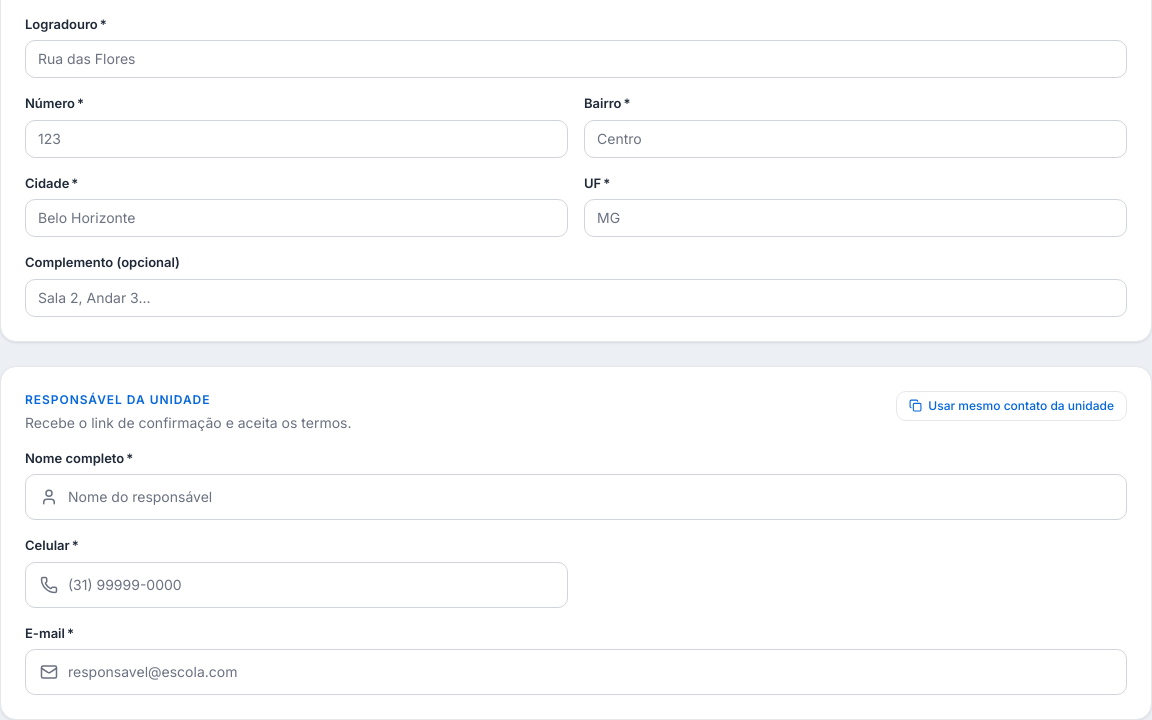
StepDados — duplicar contato da unidade › copia email e celular da unidade para o responsável
(page scrolled)
Click the button "Usar mesmo contato da unidade": (1012, 406) [896,390,1127,420]
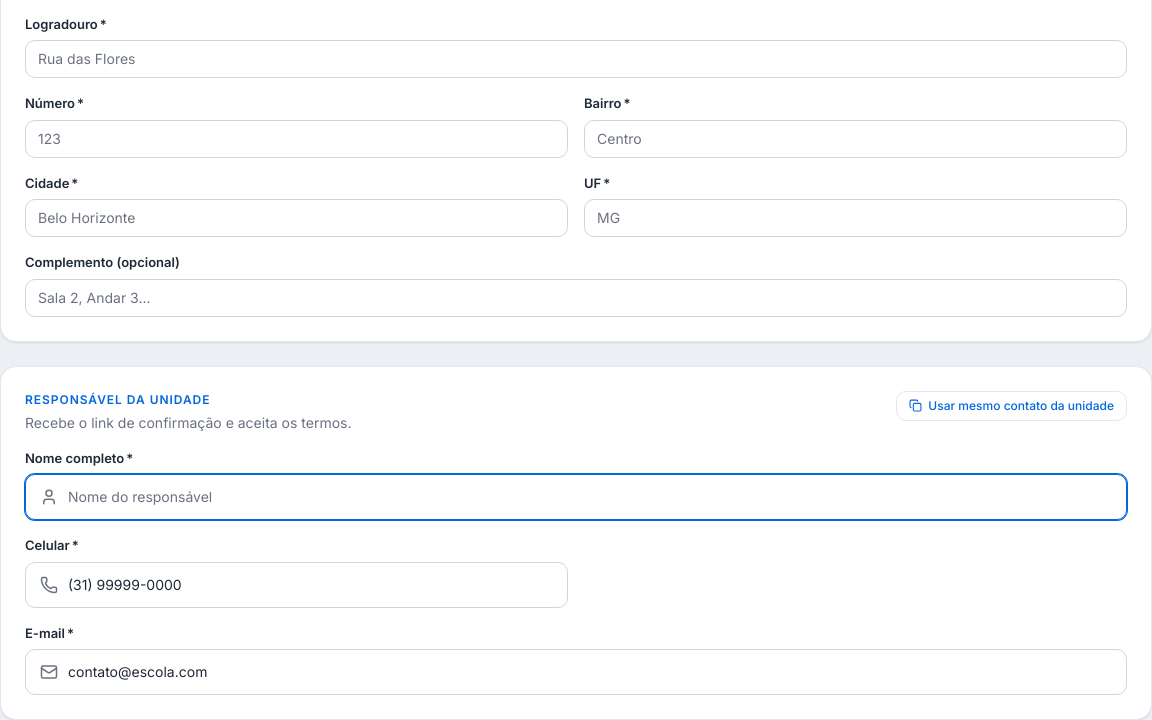
expect the field labelled "E-mail*" holds "contato@escola.com": met, box [68,662,1112,682]
expect the field labelled "Celular*" holds "(31) 99999-0000": met, box [68,574,553,594]
